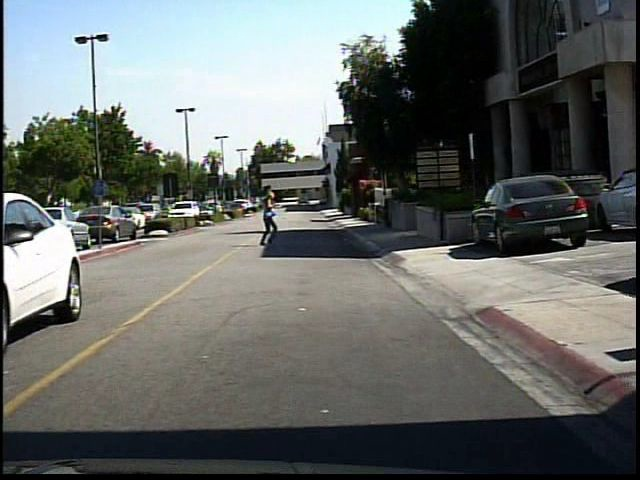person: (250, 186, 283, 250)
